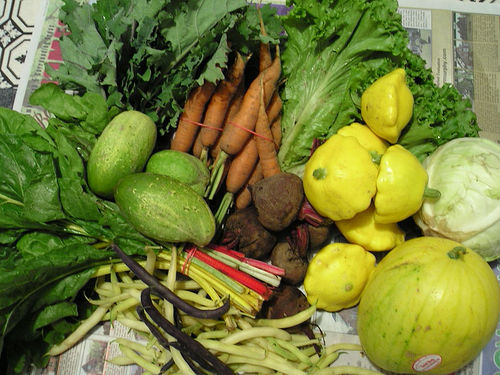cucumber: (114, 173, 216, 250), (87, 110, 157, 196), (144, 149, 214, 198)
